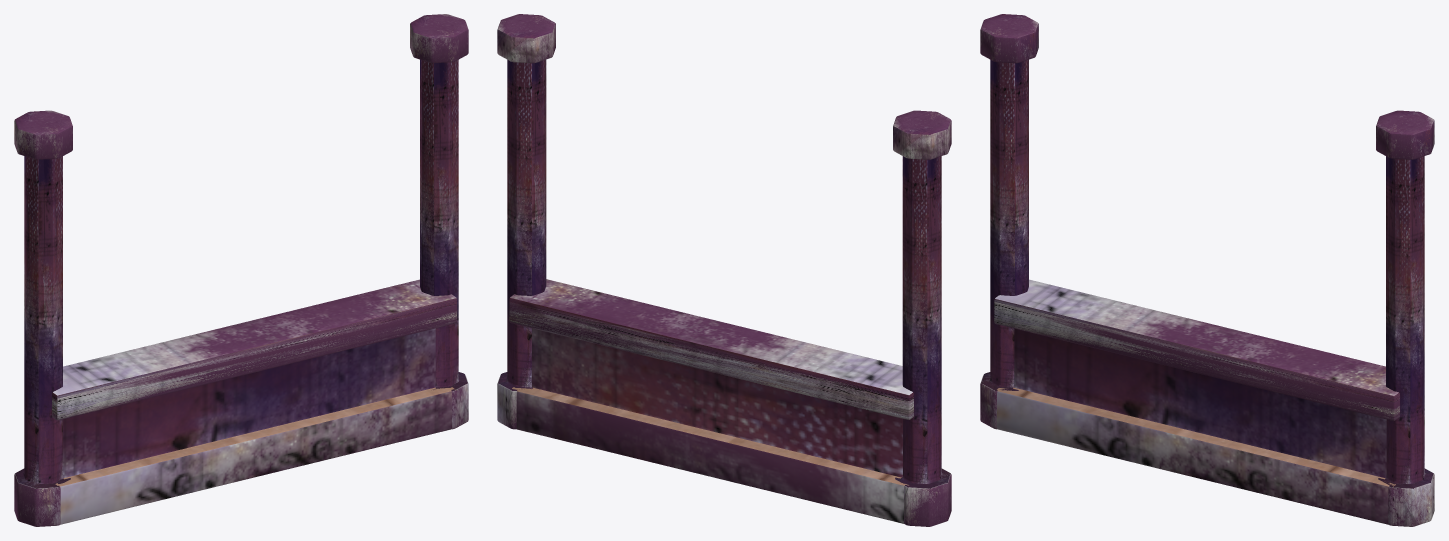
The model's file is MANOR_WALL_3_1_003.obj.
3 views of the same model, side by side, from view 1: azimuth 30°, elevation 25°; view 2: azimuth 150°, elevation 25°; view 3: azimuth 330°, elevation 25° (orthographic).
Parts seen in each view (by area): view 1: MANOR_WALL_3_1_003; view 2: MANOR_WALL_3_1_003; view 3: MANOR_WALL_3_1_003.
Boxes of the visible parts, x1,y1,x2,y2 form: MANOR_WALL_3_1_003: [14, 14, 468, 526]; MANOR_WALL_3_1_003: [497, 14, 951, 526]; MANOR_WALL_3_1_003: [980, 14, 1434, 526].
Size of the model in its own units: 3.57 by 3 by 0.4135.
